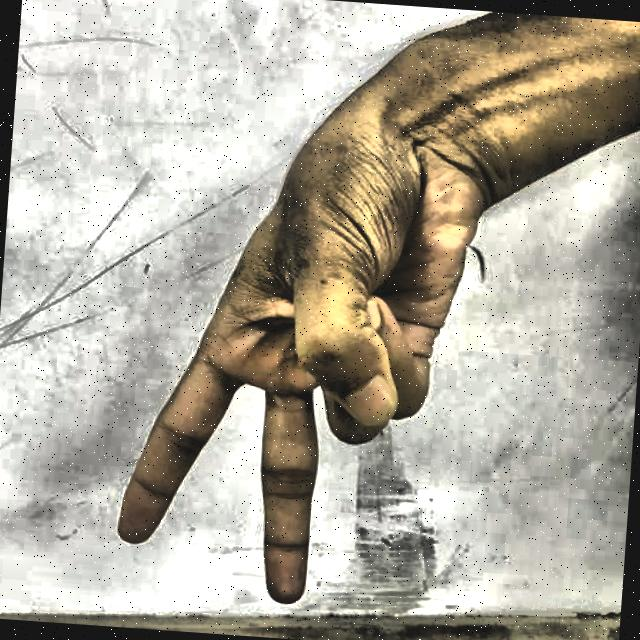Pa: (88, 44, 536, 640)
